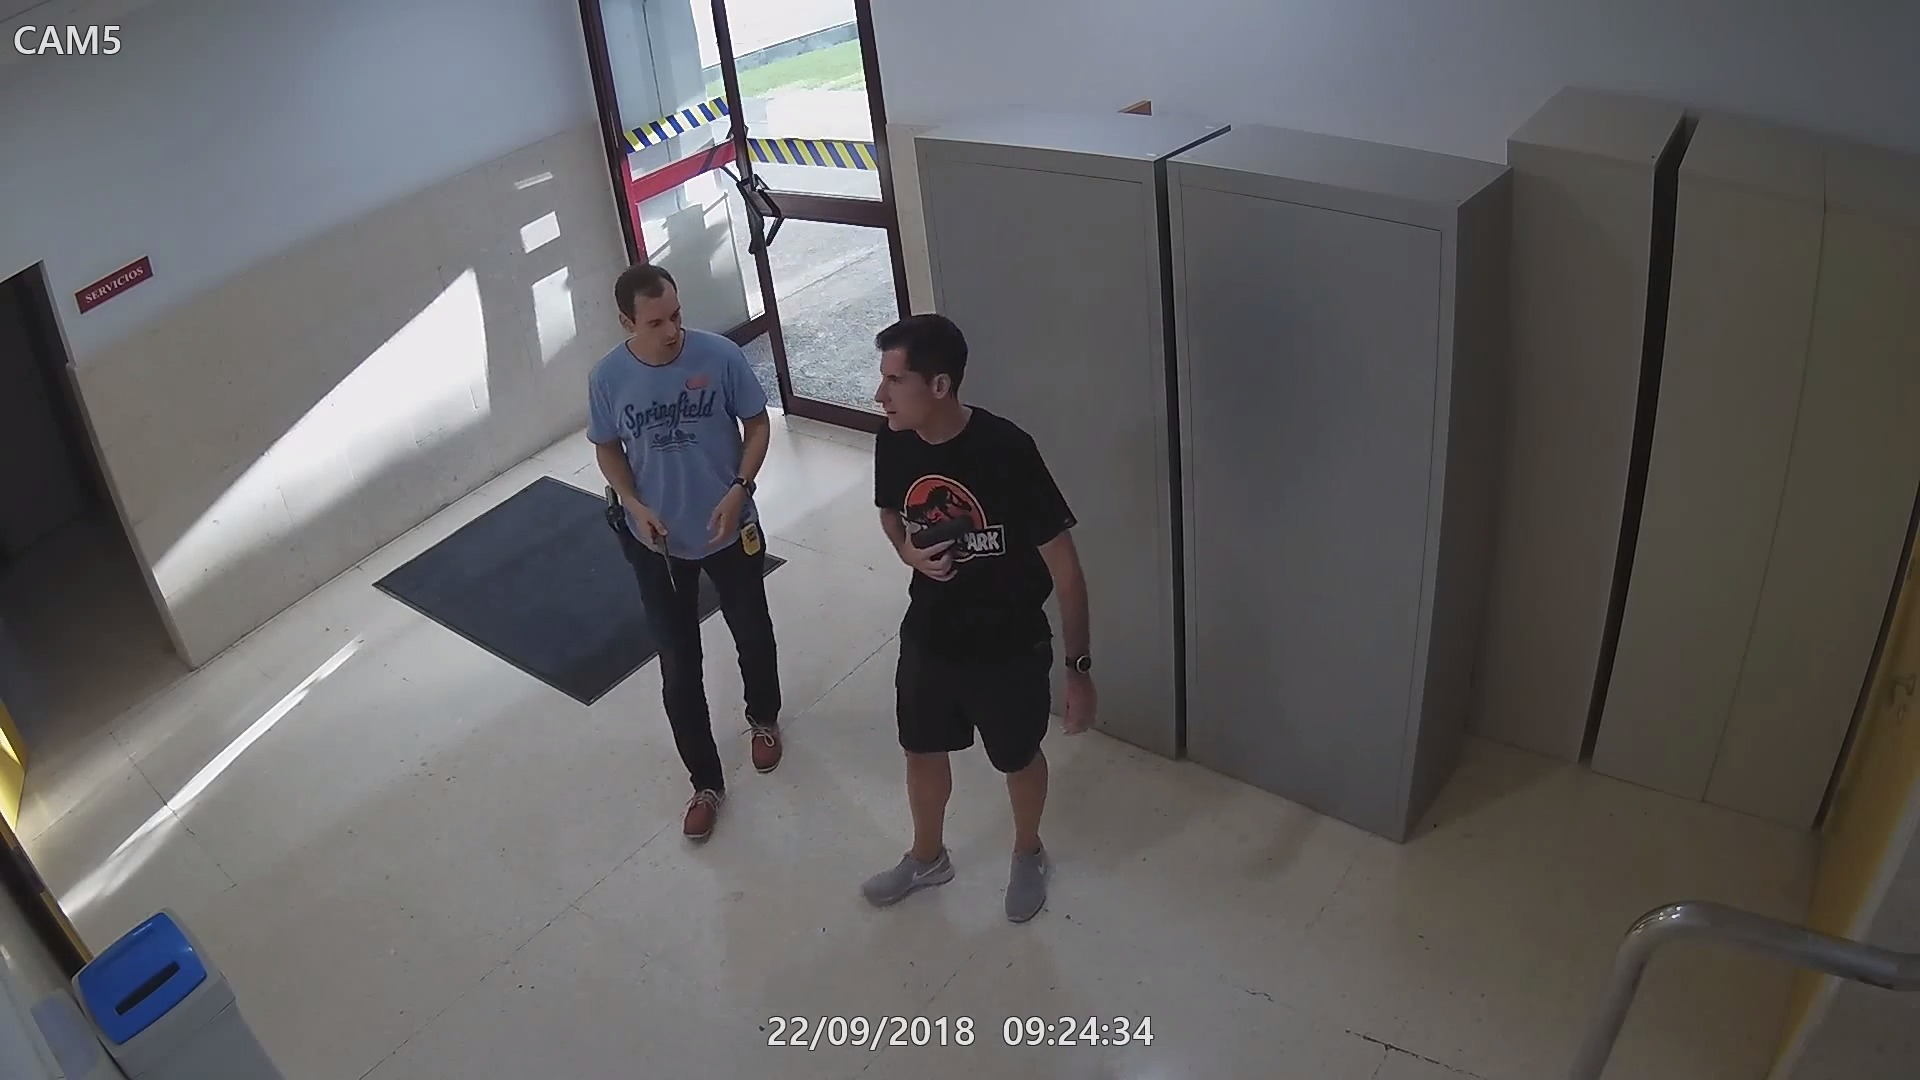Handgun: (895, 516, 975, 582), (589, 475, 626, 555)
Knife: (630, 498, 686, 593)
